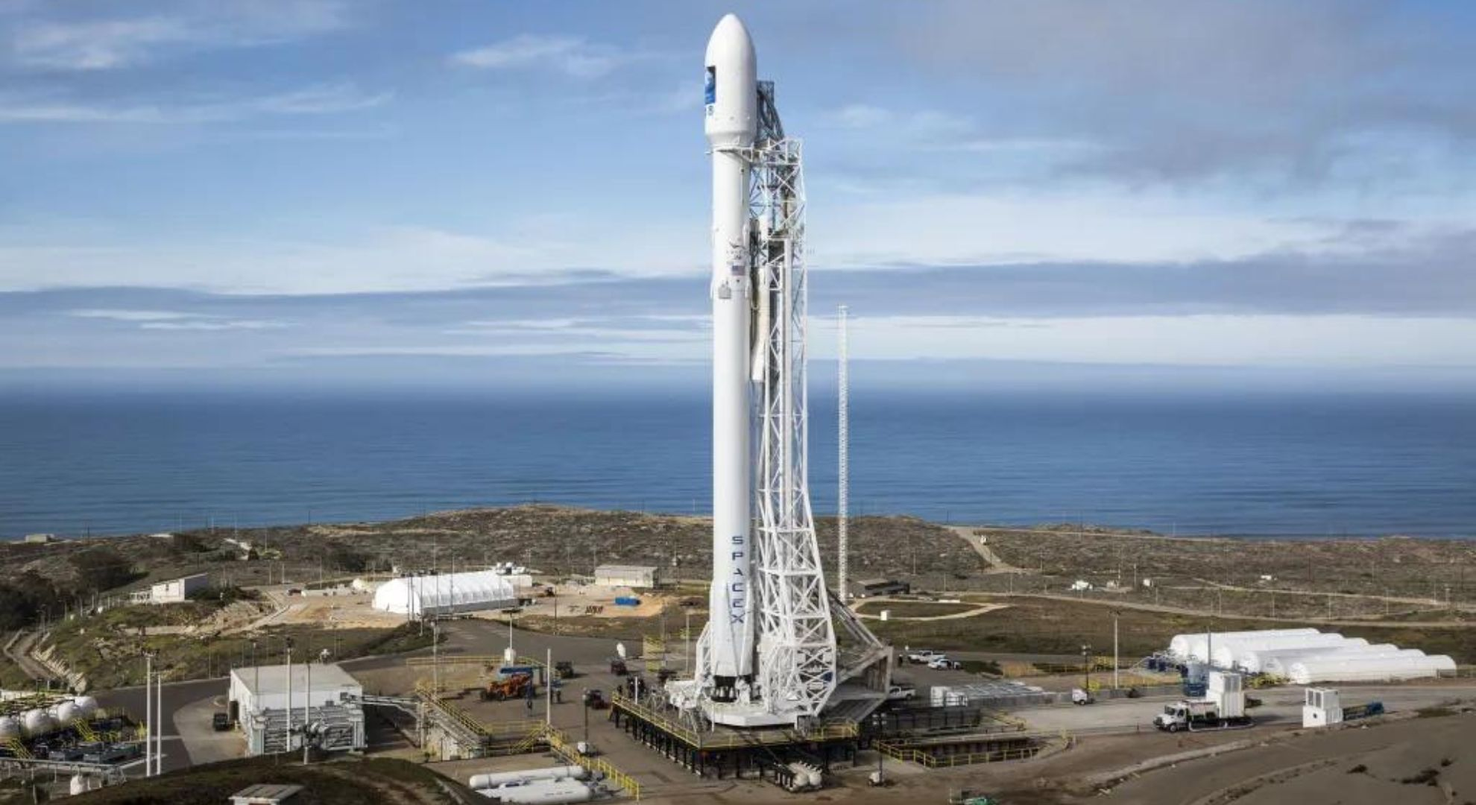falcon: (663, 7, 827, 696)
